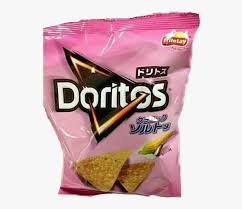Doritos: (51, 44, 180, 194)
